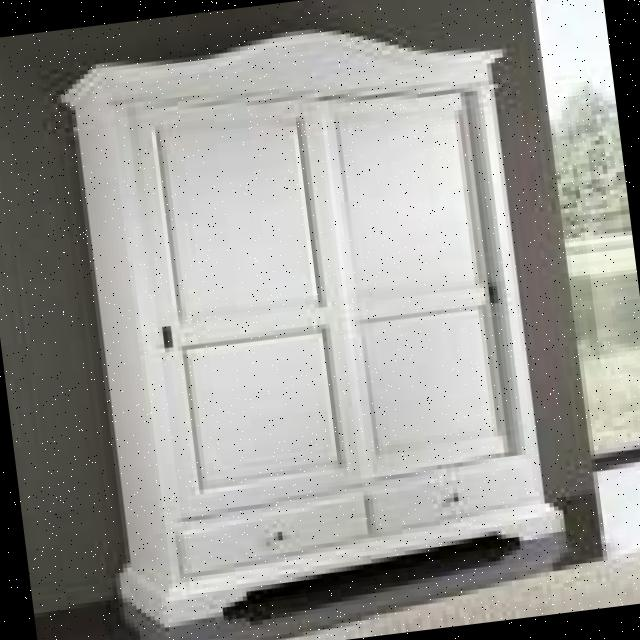Closet: (50, 0, 580, 637)
